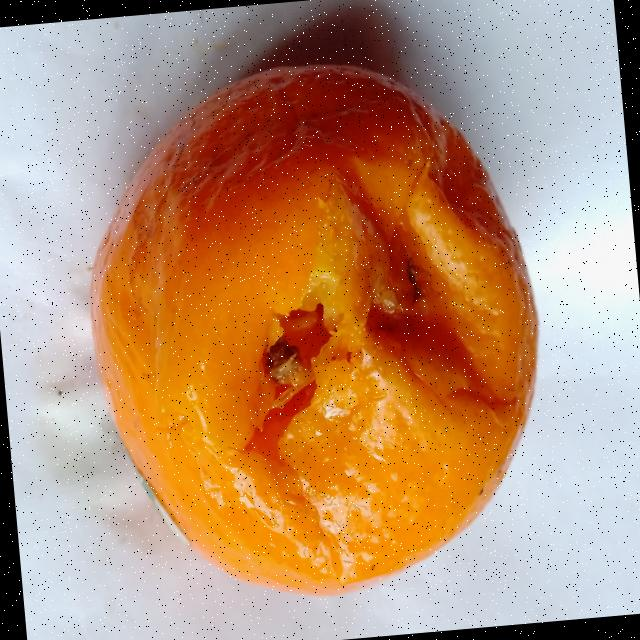Rotten: (66, 44, 564, 616)
